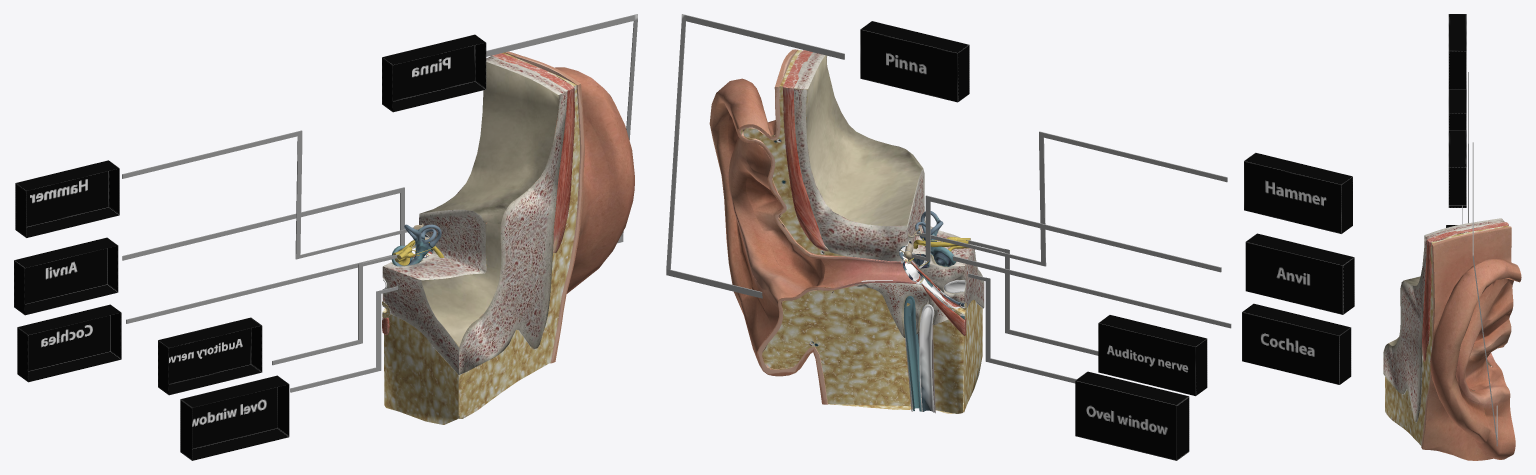
Rendered from level12.fbx.
The picture shows the model from 3 angles, left to right: view 1: azimuth 30°, elevation 25°; view 2: azimuth 150°, elevation 25°; view 3: azimuth 270°, elevation 25°; orthographic projection. The views are drawn at different scales.
Visible parts, largest first — view 1: ear, oval_window, cochlea, hammer, auditory_nerve, anvil, pinna, line4, line, line3, line1, line2 (+1 smaller); view 2: ear, oval_window, pinna, auditory_nerve, cochlea, anvil, hammer, line3, line4, line, line1, line6 (+1 smaller); view 3: ear, pinna, hammer, anvil, line3.
Part boxes in pixels (x1,y1,x2,y2): ear: [382, 51, 634, 424]; oval_window: [180, 375, 289, 460]; cochlea: [17, 304, 121, 382]; hammer: [15, 160, 119, 237]; auditory_nerve: [158, 317, 262, 395]; anvil: [14, 237, 118, 315]; pinna: [382, 34, 486, 112]; line4: [122, 130, 414, 259]; line: [122, 187, 415, 260]; line3: [486, 14, 637, 243]; line1: [126, 255, 391, 323]; line2: [272, 254, 398, 365]; ear: [709, 49, 984, 413]; oval_window: [1075, 371, 1189, 460]; pinna: [860, 21, 969, 102]; auditory_nerve: [1098, 315, 1207, 396]; cochlea: [1242, 303, 1351, 384]; anvil: [1245, 233, 1354, 314]; hammer: [1244, 152, 1352, 233]; line3: [666, 14, 844, 298]; line4: [916, 131, 1227, 266]; line: [912, 195, 1221, 272]; line1: [952, 256, 1231, 328]; line6: [968, 273, 1076, 383]; ear: [1383, 218, 1521, 460]; pinna: [1448, 130, 1466, 205]; hammer: [1448, 14, 1466, 89]; anvil: [1448, 89, 1466, 129]; line3: [1472, 190, 1497, 446].
Bounding box in the file's own units: 243 × 129 × 56.7.
